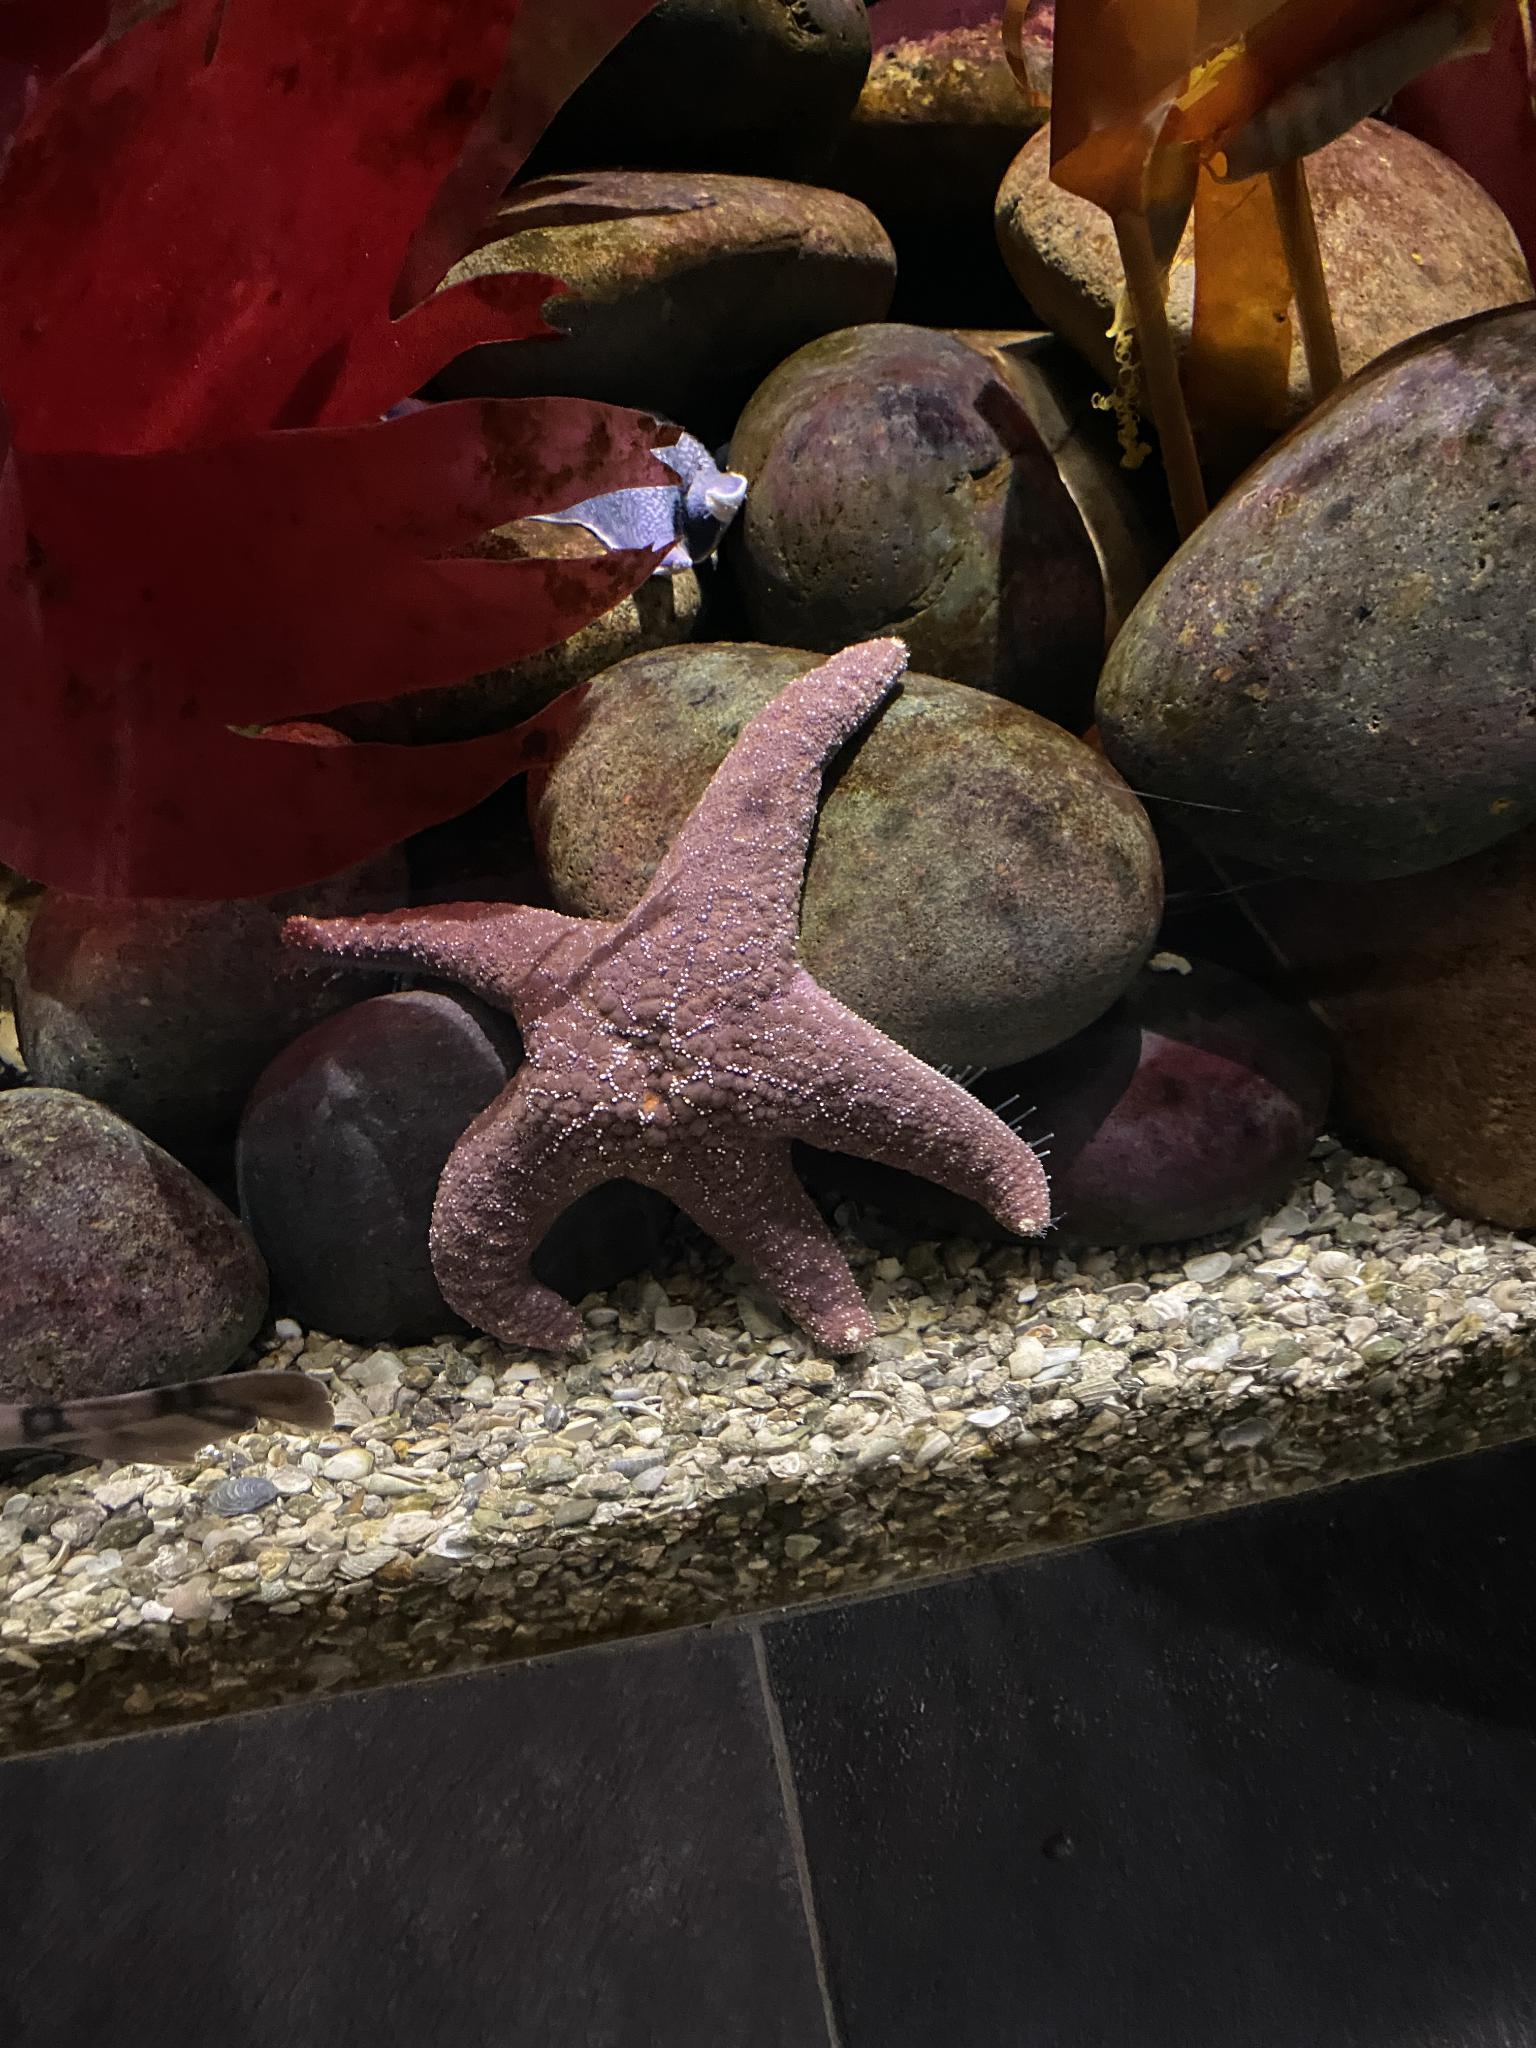starfish: (274, 634, 1057, 1361)
